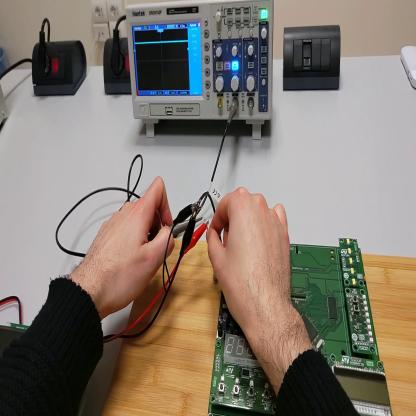hand: (207, 187, 295, 339), (85, 180, 176, 320)
low voltage board: (199, 192, 393, 416)
oscilloscope: (125, 3, 276, 143)
oscilloscope probe tip: (171, 218, 205, 239)
power supply: (2, 80, 8, 132)
socket: (32, 44, 87, 98), (104, 36, 133, 95)
working area: (102, 238, 416, 413)
